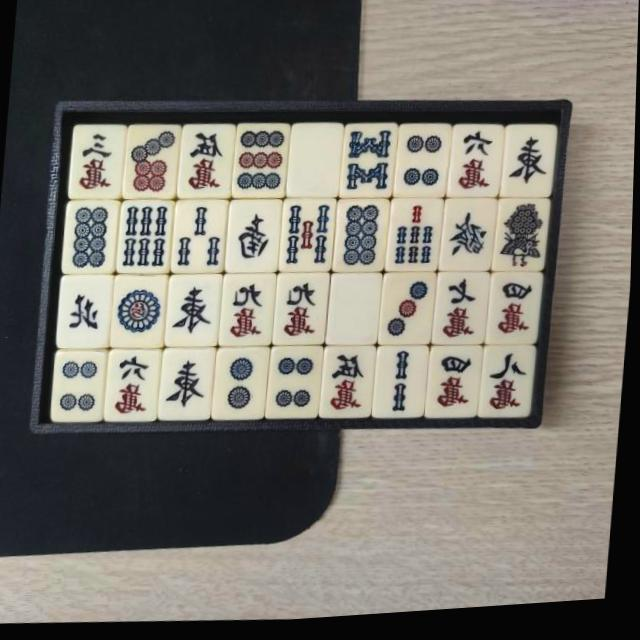hdg: (446, 207, 494, 275)
hdw: (331, 279, 381, 346), (291, 132, 340, 198)
hwe: (169, 280, 219, 347), (506, 134, 554, 201), (165, 352, 212, 420)
hwn: (62, 279, 108, 345)
hws: (231, 205, 278, 274)
sb1: (497, 205, 547, 278)
sb2: (380, 352, 427, 421)
sb3: (174, 204, 226, 276)
sb5: (284, 202, 333, 275)
sb6: (121, 203, 170, 272)
sb7: (392, 204, 440, 274)
sb8: (343, 130, 395, 199)
sc3: (72, 128, 122, 198)
sc4: (431, 354, 480, 421), (492, 281, 539, 348)
sc5: (182, 128, 231, 198), (326, 352, 372, 420)
sc6: (108, 353, 160, 421), (452, 131, 499, 201)
sc7: (438, 279, 485, 350)
sc8: (485, 354, 533, 422)
sc9: (226, 278, 272, 346), (280, 278, 326, 345)
sd1: (113, 279, 164, 348)
sd2: (217, 353, 264, 420)
sd3: (384, 279, 434, 349)
sd4: (398, 130, 447, 199), (273, 351, 320, 417), (57, 353, 104, 419)
sd7: (125, 128, 178, 199)
sd8: (336, 204, 388, 275), (67, 202, 115, 273)
sd9: (235, 129, 287, 197)
